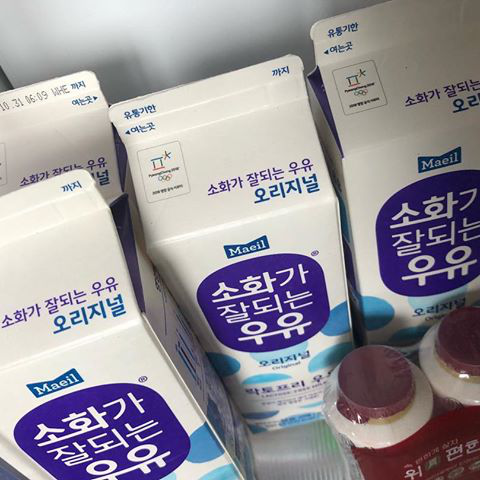milk: (4, 71, 257, 479), (108, 55, 353, 427), (306, 3, 480, 406)
